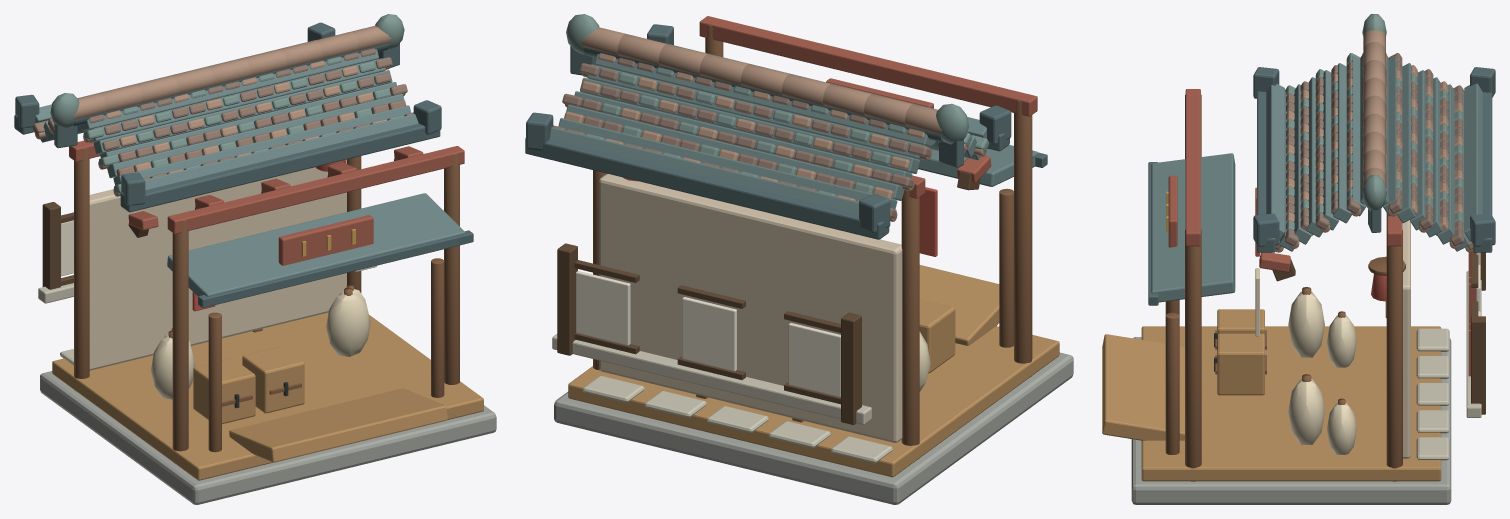
The model's file is building_warehouse_open.glb.
3 views of the same model, side by side, from view 1: azimuth 30°, elevation 25°; view 2: azimuth 150°, elevation 25°; view 3: azimuth 270°, elevation 25° (orthographic). The views are drawn at different scales.
Parts seen in each view (by area): view 1: V4_wood_light.003, V4_roof.003, V4_plaster_warm, V4_wood.003, V4_roof_edge.003, V4_stone.003, V4_wood_red.003, V4_roof_terracotta_light.003, V4_roof_terracotta.003, V4_roof_moss.003, V4_cloth_cream.001, V4_wood_dark.003 (+2 smaller); view 2: V4_plaster_warm, V4_roof.003, V4_wood_light.003, V4_stone.003, V4_roof_terracotta_light.003, V4_roof_edge.003, V4_wood.003, V4_plaster_light.003, V4_stone_light.003, V4_wood_red.003, V4_roof_terracotta.003, V4_wood_dark.003 (+2 smaller); view 3: V4_wood_light.003, V4_roof.003, V4_wood.003, V4_stone.003, V4_roof_terracotta.003, V4_roof_terracotta_light.003, V4_cloth_cream.001, V4_roof_edge.003, V4_wood_red.003, V4_stone_light.003, V4_roof_moss.003, V4_wood_dark.003 (+2 smaller).
Boxes of the visible parts, bbox=[...] form: V4_wood_light.003: bbox=[52, 312, 483, 480]; V4_roof.003: bbox=[35, 40, 465, 296]; V4_plaster_warm: bbox=[89, 159, 346, 370]; V4_wood.003: bbox=[74, 148, 459, 452]; V4_roof_edge.003: bbox=[14, 22, 473, 307]; V4_stone.003: bbox=[40, 371, 496, 504]; V4_wood_red.003: bbox=[69, 140, 464, 265]; V4_roof_terracotta_light.003: bbox=[35, 25, 405, 196]; V4_roof_terracotta.003: bbox=[32, 48, 413, 179]; V4_roof_moss.003: bbox=[50, 14, 404, 193]; V4_cloth_cream.001: bbox=[151, 265, 376, 399]; V4_wood_dark.003: bbox=[42, 158, 395, 289]; V4_plaster_warm: bbox=[599, 174, 902, 442]; V4_roof.003: bbox=[550, 44, 1038, 213]; V4_wood_light.003: bbox=[568, 265, 1059, 477]; V4_stone.003: bbox=[554, 352, 1073, 504]; V4_roof_terracotta_light.003: bbox=[564, 27, 986, 221]; V4_roof_edge.003: bbox=[525, 24, 1047, 239]; V4_wood.003: bbox=[593, 25, 1032, 445]; V4_plaster_light.003: bbox=[576, 271, 840, 397]; V4_stone_light.003: bbox=[552, 334, 892, 463]; V4_wood_red.003: bbox=[699, 16, 1037, 198]; V4_roof_terracotta.003: bbox=[553, 58, 931, 218]; V4_wood_dark.003: bbox=[557, 171, 980, 424]; V4_wood_light.003: bbox=[1102, 309, 1441, 481]; V4_roof.003: bbox=[1151, 55, 1482, 302]; V4_wood.003: bbox=[1165, 94, 1405, 481]; V4_stone.003: bbox=[1131, 337, 1451, 504]; V4_roof_terracotta.003: bbox=[1275, 53, 1464, 249]; V4_roof_terracotta_light.003: bbox=[1275, 30, 1473, 252]; V4_cloth_cream.001: bbox=[1255, 268, 1356, 454]; V4_roof_edge.003: bbox=[1148, 67, 1495, 305]; V4_wood_red.003: bbox=[1168, 89, 1476, 376]; V4_stone_light.003: bbox=[1416, 271, 1481, 460]; V4_roof_moss.003: bbox=[1285, 14, 1462, 230]; V4_wood_dark.003: bbox=[1272, 252, 1485, 414].
Size of the model in its own units: 3.28 by 2.95 by 3.13.
